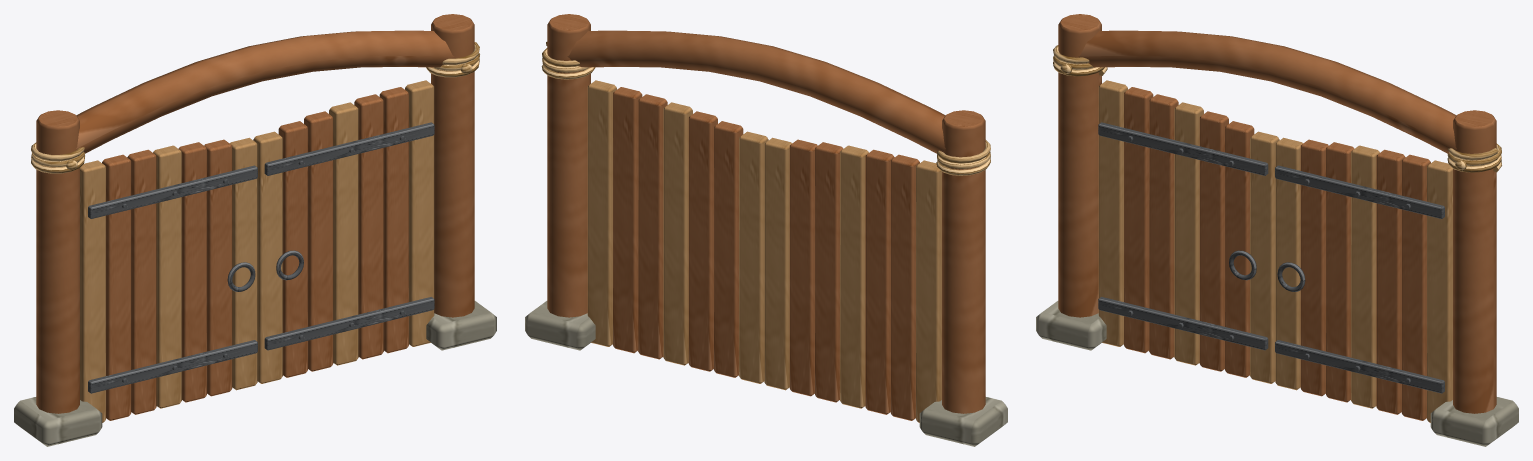
The model's file is SM_WoodGate_Closed.glb.
The picture shows the model from 3 angles, left to right: view 1: azimuth 30°, elevation 25°; view 2: azimuth 150°, elevation 25°; view 3: azimuth 330°, elevation 25°; orthographic projection.
Visible parts, largest first — view 1: SM_WoodGate_Closed; view 2: SM_WoodGate_Closed; view 3: SM_WoodGate_Closed.
Boxes of the visible parts, x1=… form: SM_WoodGate_Closed: x1=14, y1=14, x2=496, y2=446; SM_WoodGate_Closed: x1=525, y1=14, x2=1007, y2=446; SM_WoodGate_Closed: x1=1036, y1=14, x2=1518, y2=446.
Bounding box in the file's own units: 4.32 × 3.05 × 0.56.
Materials: 1 (1 with a texture image).
